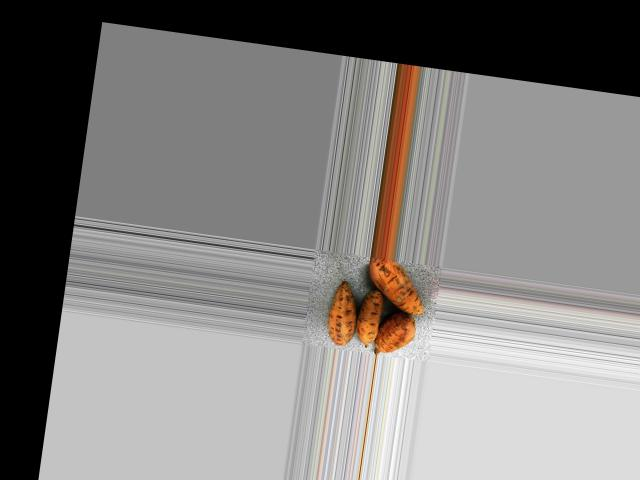sweet_potato: (356, 255, 435, 316)
